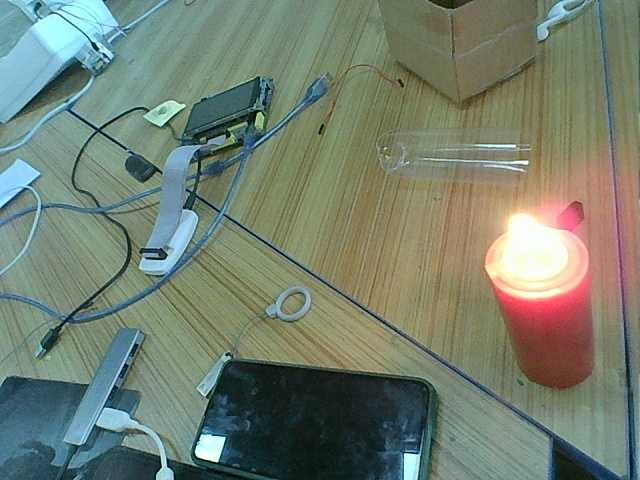candle: (491, 272, 614, 398)
fire: (469, 196, 579, 311)
